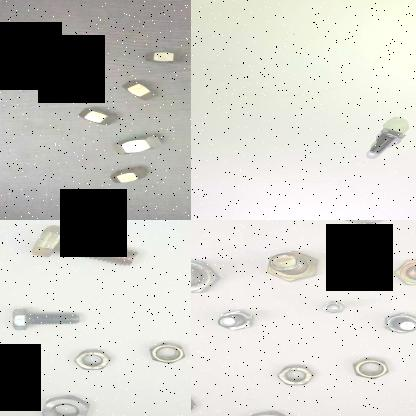Bolts: (29, 221, 138, 270), (2, 300, 86, 334), (365, 122, 409, 156), (208, 307, 255, 335), (191, 252, 219, 298), (386, 254, 416, 296)
NUTS: (113, 130, 174, 156), (267, 362, 319, 390), (346, 348, 388, 382), (39, 392, 93, 416), (145, 338, 189, 366), (66, 348, 115, 372), (110, 161, 152, 186), (331, 220, 398, 230), (233, 406, 295, 416)
